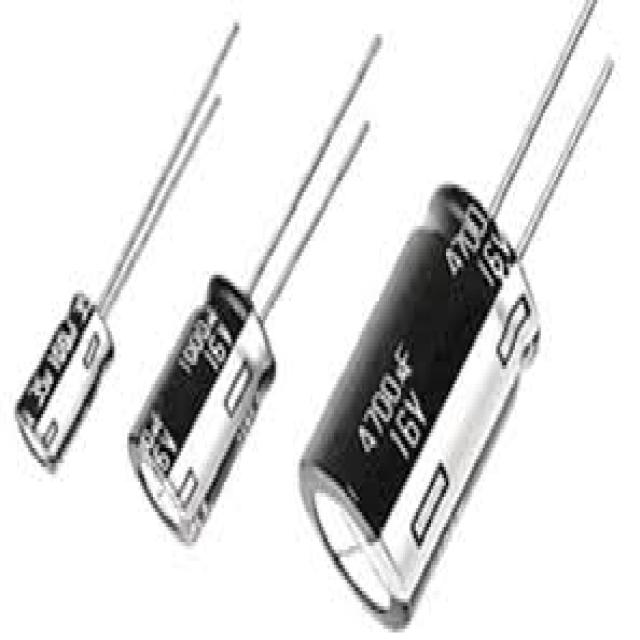Capacitor: (297, 184, 543, 632), (127, 275, 278, 550), (13, 294, 116, 474)
